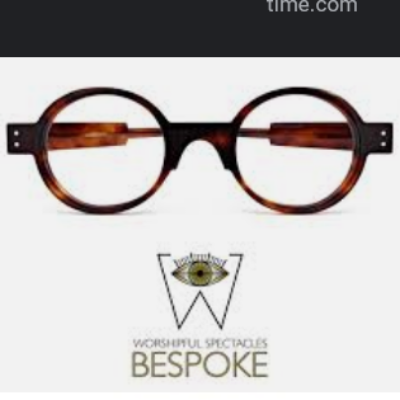glasses: (3, 76, 400, 227)
